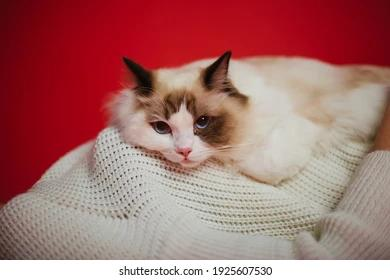ragdoll: (115, 35, 254, 183)
